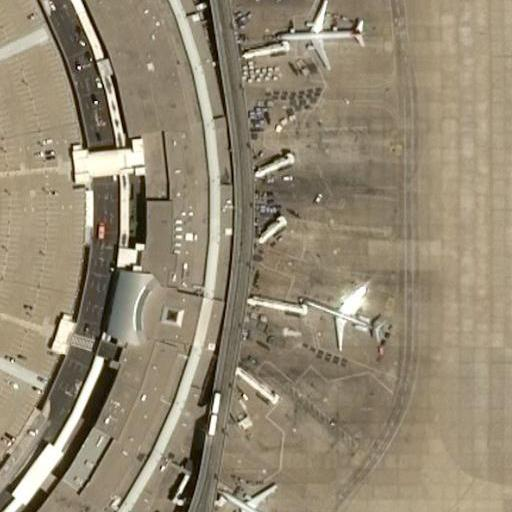Aircraft: (301, 274, 394, 350), (279, 0, 367, 65), (220, 477, 290, 512)
